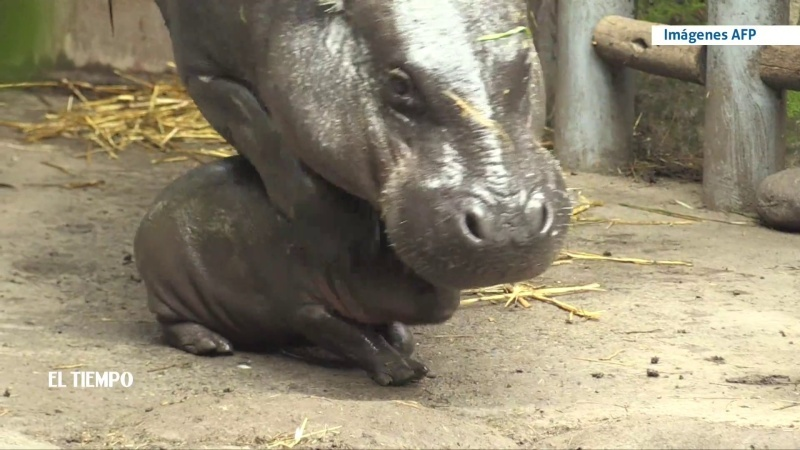hipopotamo: (147, 1, 602, 296), (128, 141, 459, 399)
